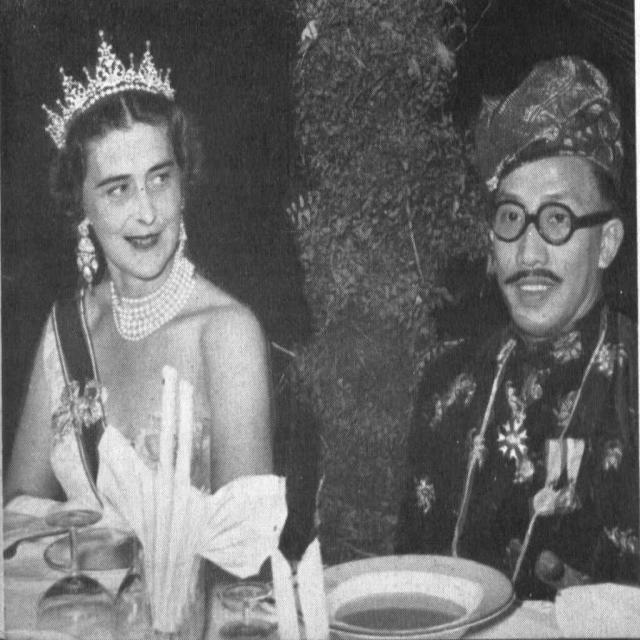Earring: (66, 218, 116, 300)
